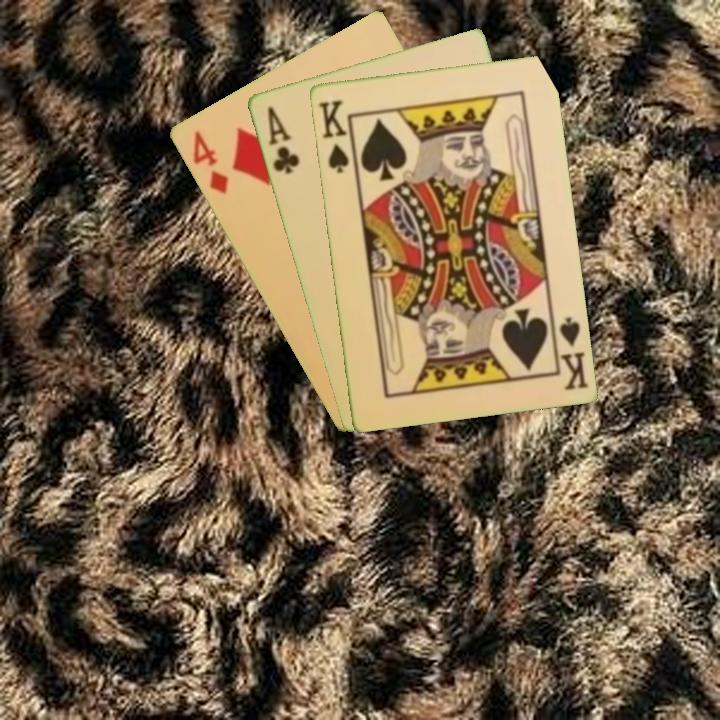4d: (188, 127, 231, 197)
Ac: (263, 102, 302, 177)
Ks: (548, 312, 590, 393), (315, 96, 357, 175)
